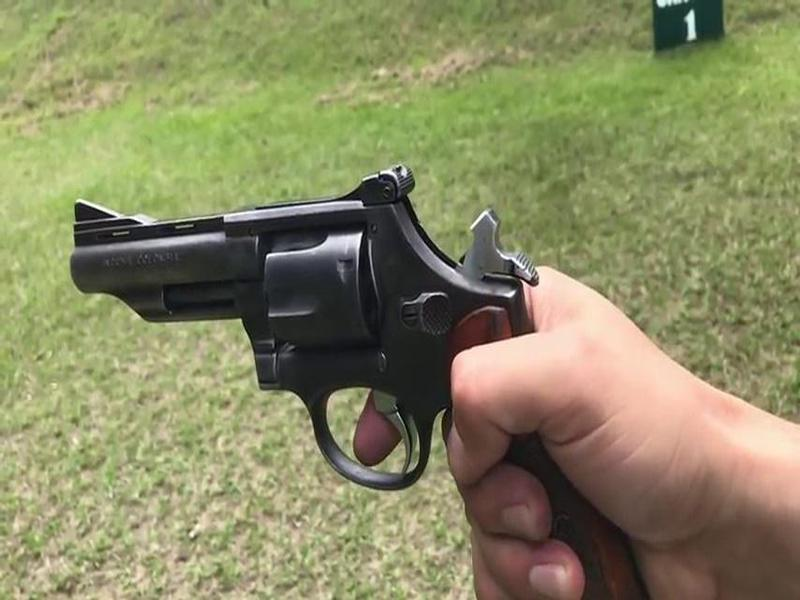Revolver: (62, 158, 574, 484)
